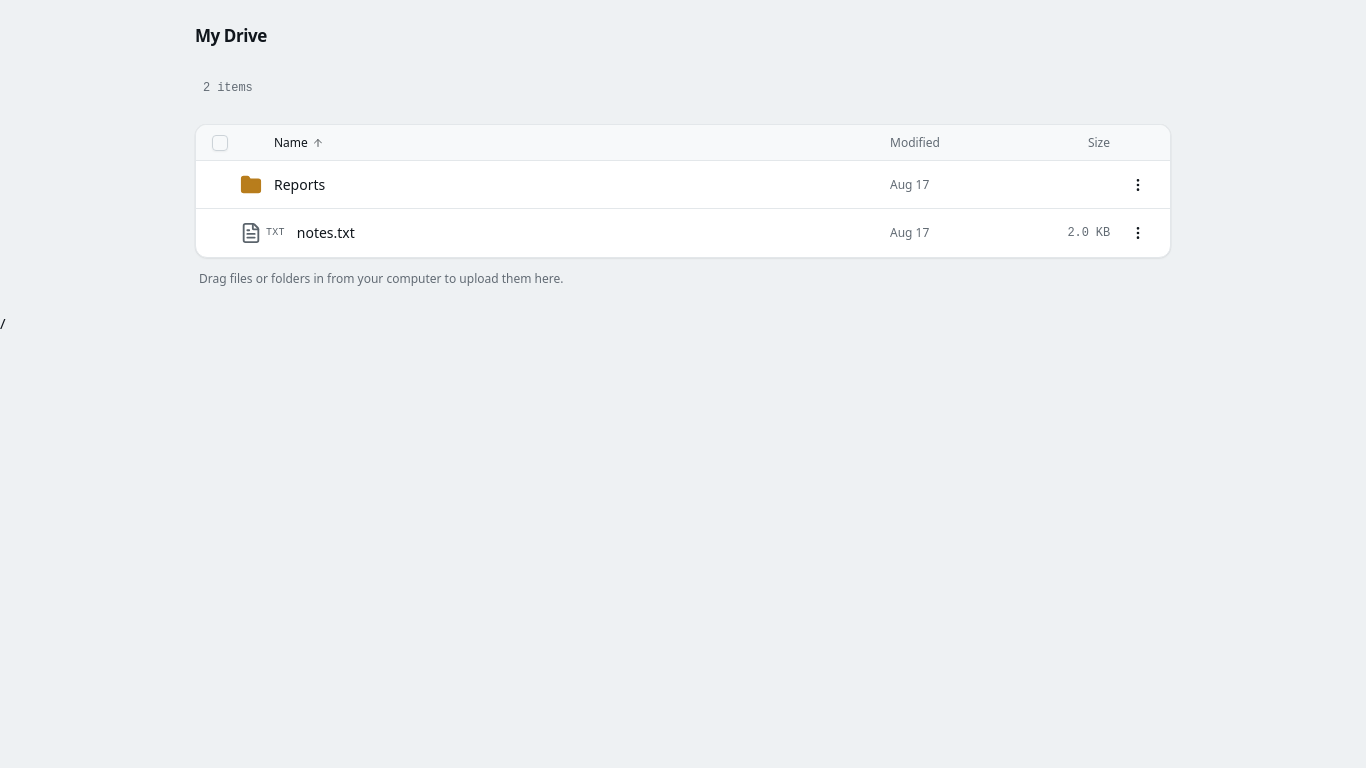
Test: rows › opens from the name and selects from everywhere else on the row
Step 1. Click the link "notes.txt" → (326, 233), box [297,223,355,242]
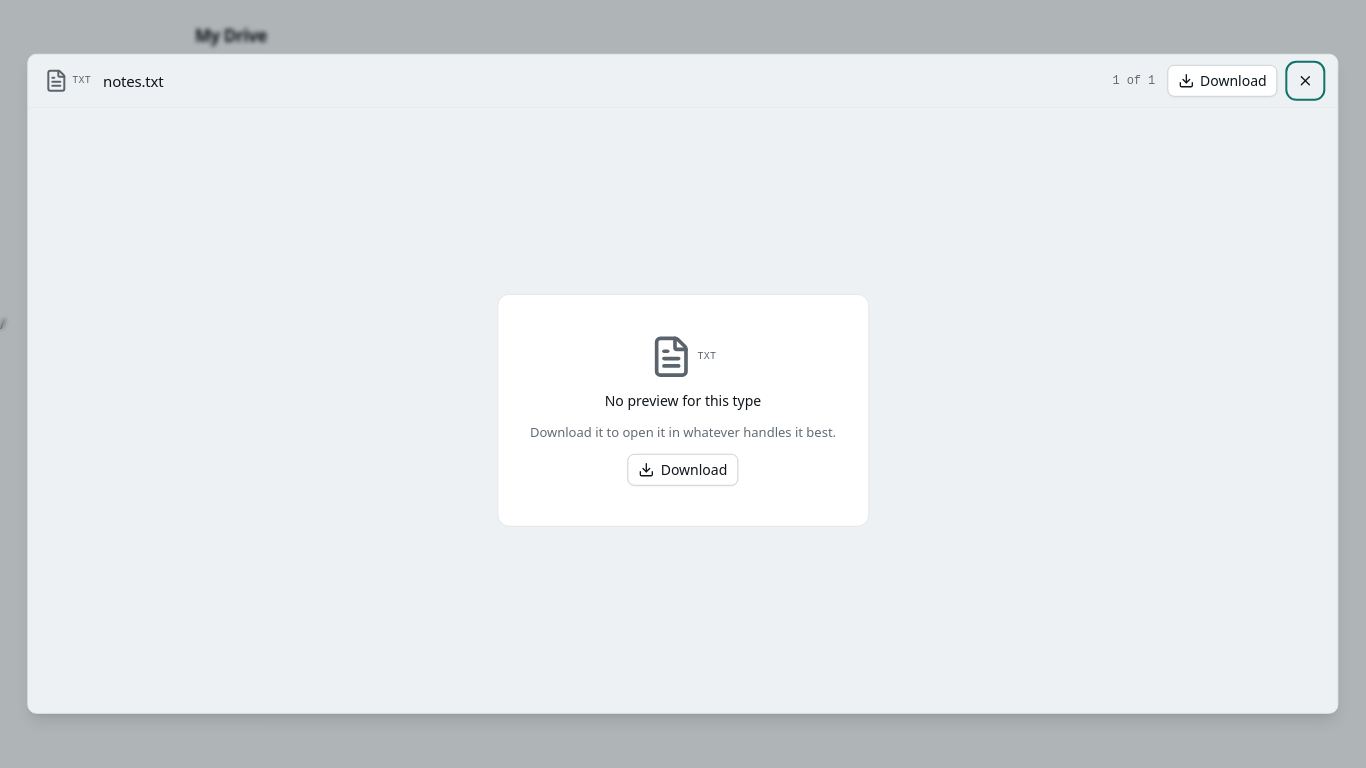
Result: the dialog is shown
Step 2. Press Escape
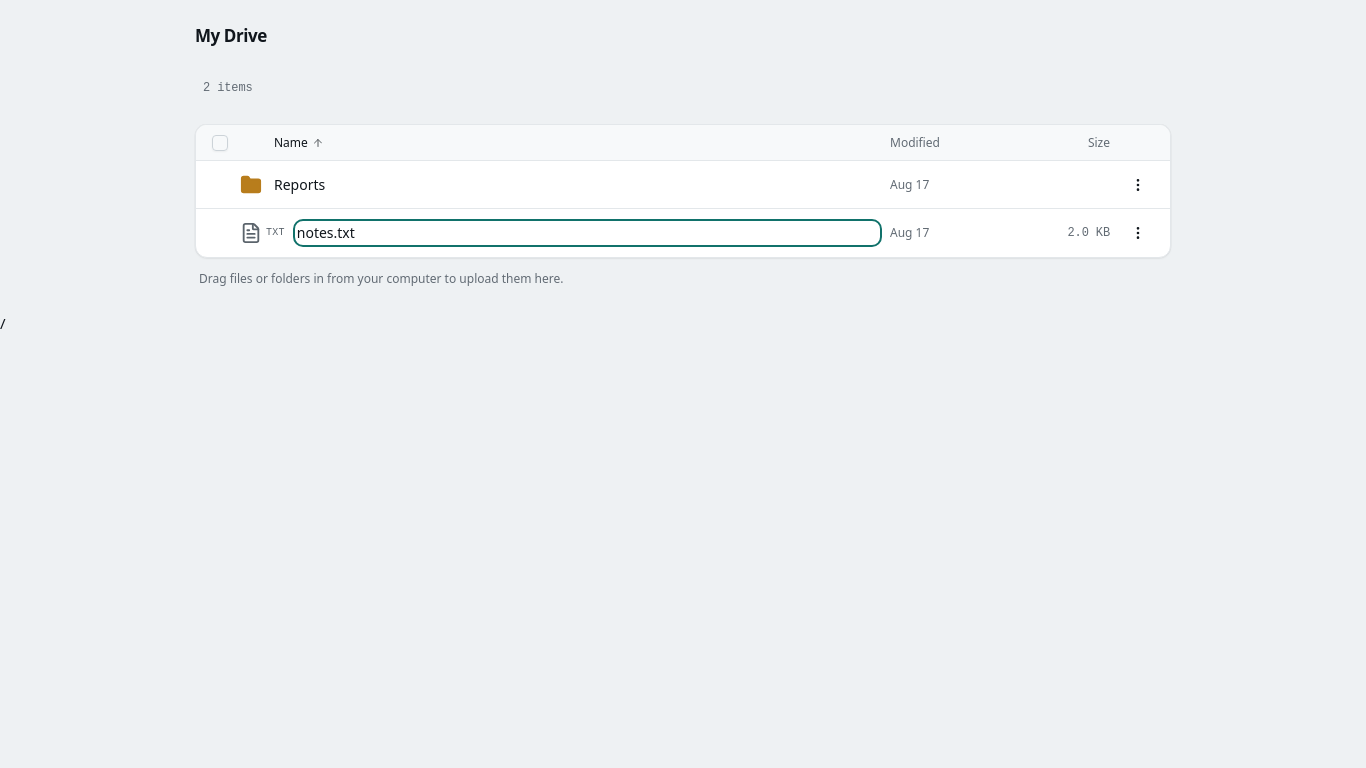
Result: the dialog is gone
Step 3. Click the text "2.0 KB" → (1089, 233), box [1068,226,1110,240]
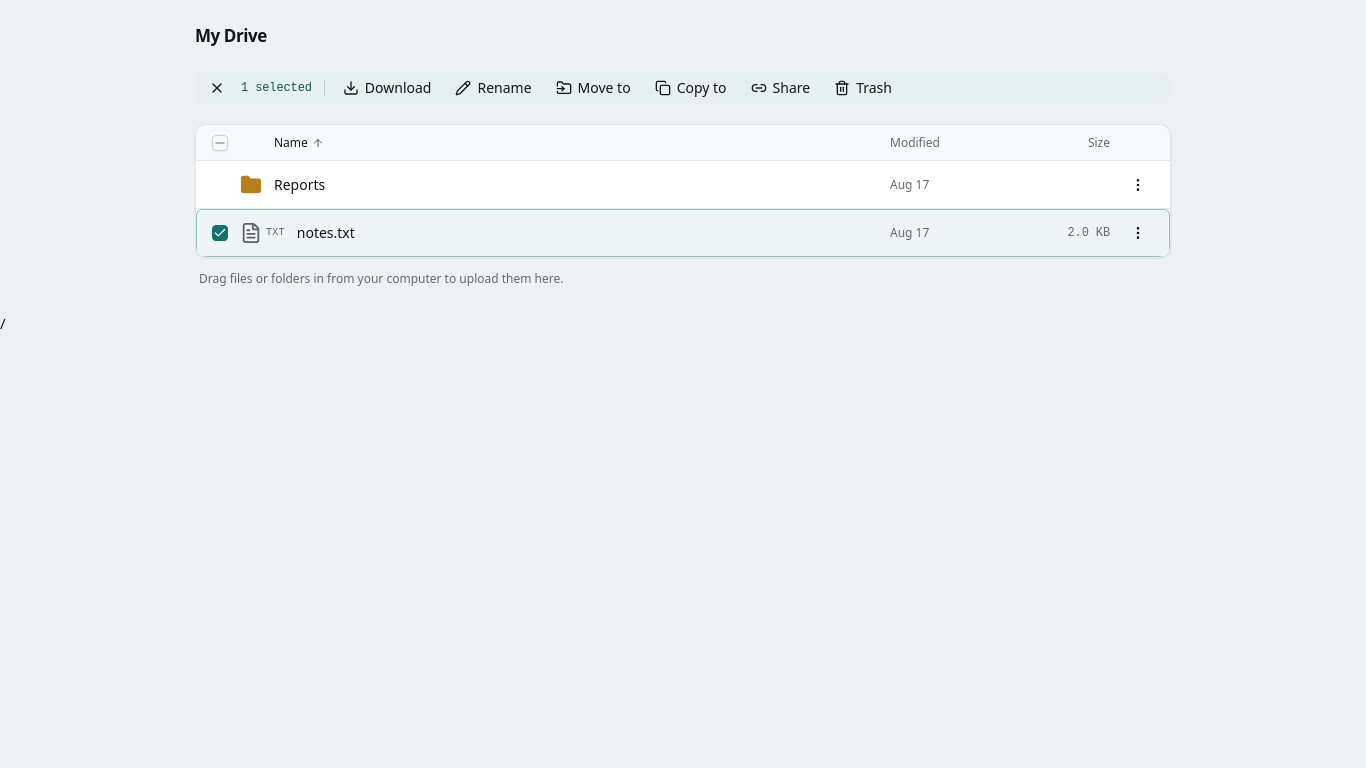
Result: the element named "Selection actions" is shown at [195,72,1171,104]
